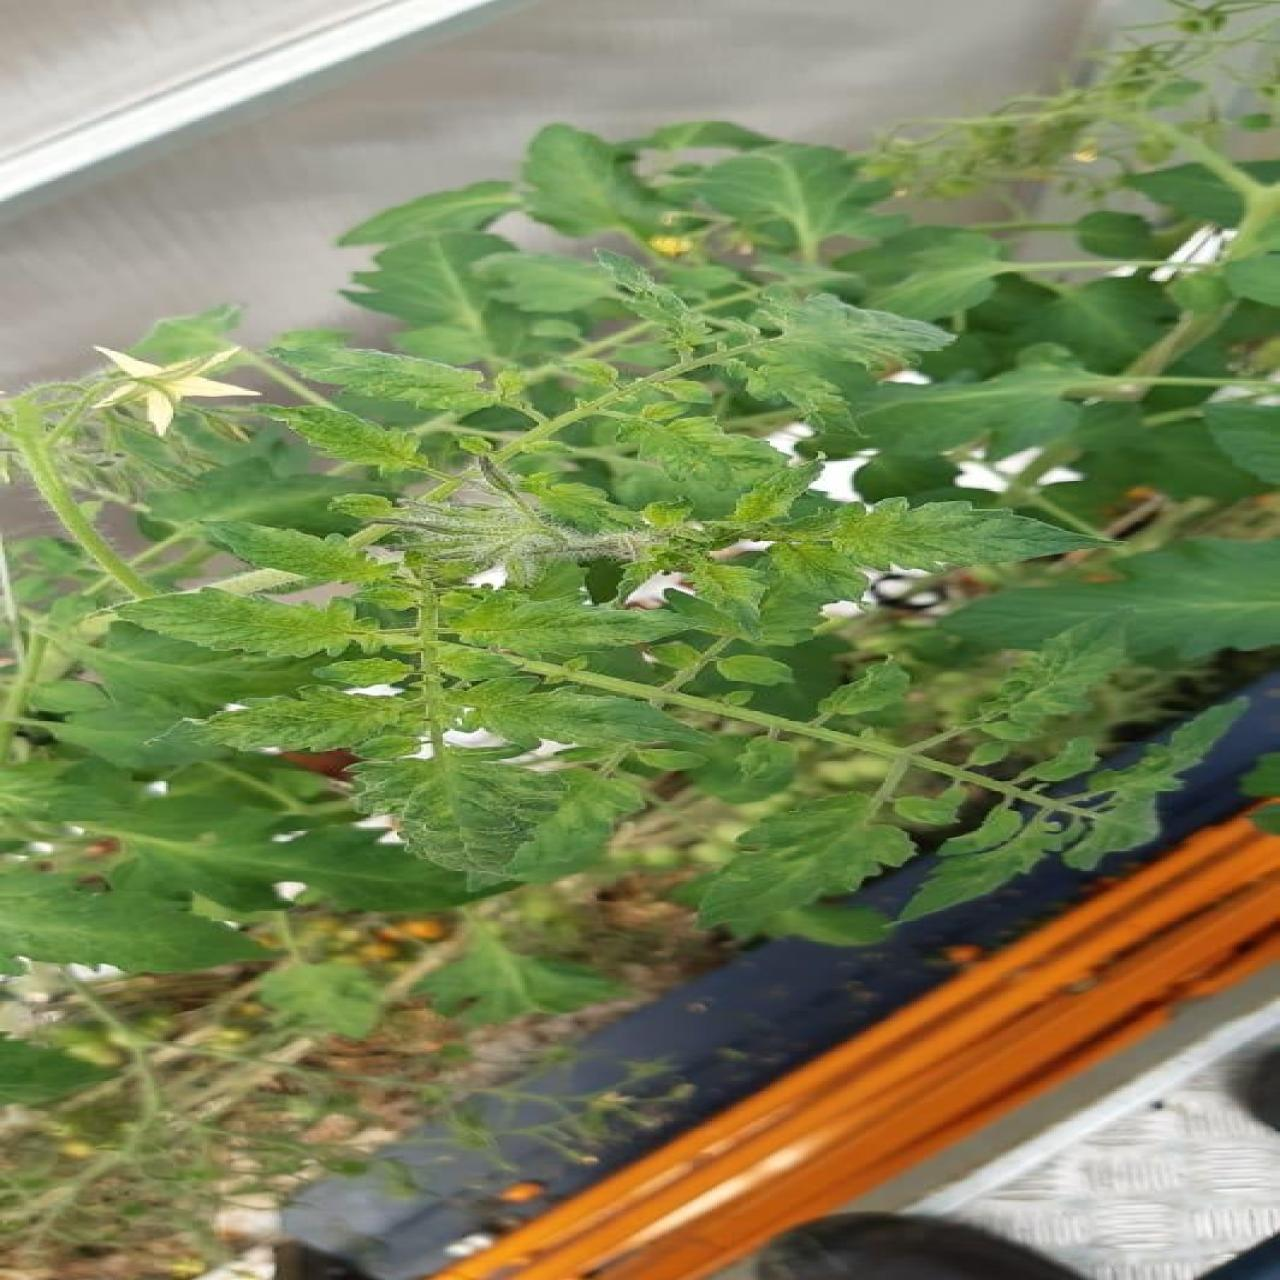T_L_R: (353, 749, 564, 874), (829, 499, 1105, 570), (120, 588, 375, 658), (169, 686, 423, 751), (450, 599, 694, 656), (261, 406, 429, 474)
T_S_H: (499, 658, 1096, 821)
